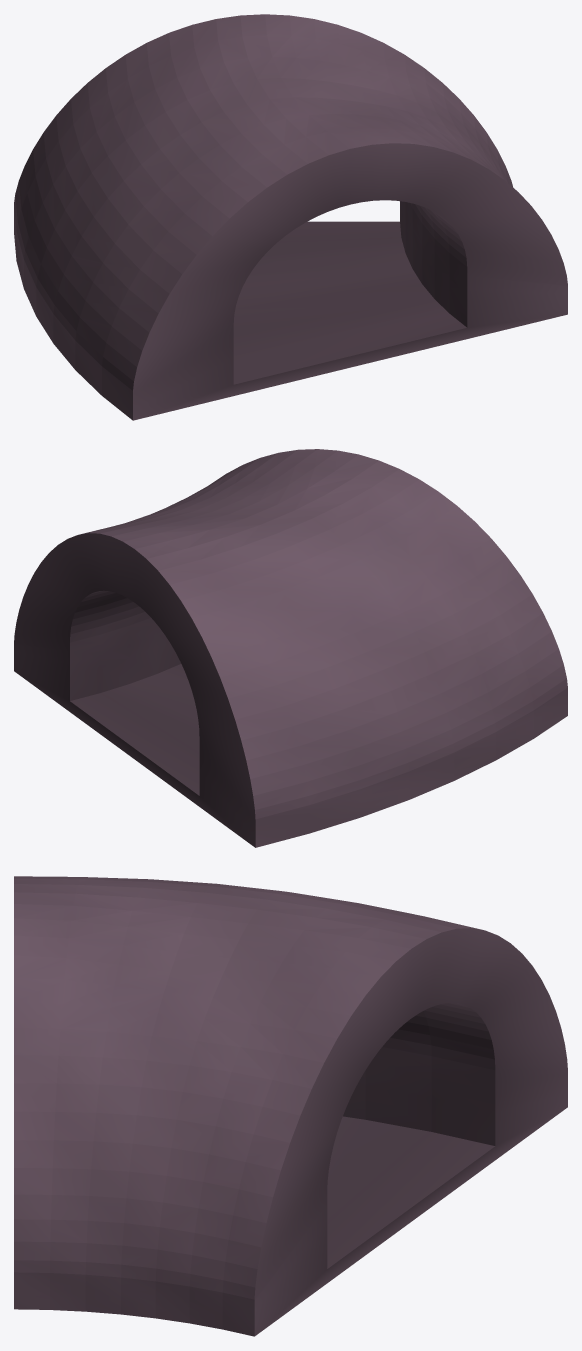
The model's file is curve_right_30_terrain_lod1.glb.
3 renders of one model, top to bottom at view 1: azimuth 30°, elevation 25°; view 2: azimuth 150°, elevation 25°; view 3: azimuth 270°, elevation 25°, orthographic. The views are drawn at different scales.
Parts seen in each view (by area): view 1: TerrainRoof.009; view 2: TerrainRoof.009; view 3: TerrainRoof.009.
Part boxes in pixels (bbox=[...]): TerrainRoof.009: bbox=[14, 14, 567, 420]; TerrainRoof.009: bbox=[14, 449, 567, 847]; TerrainRoof.009: bbox=[14, 876, 567, 1336].
Bounding box in the file's own units: 31.32 × 13.65 × 25.1.
